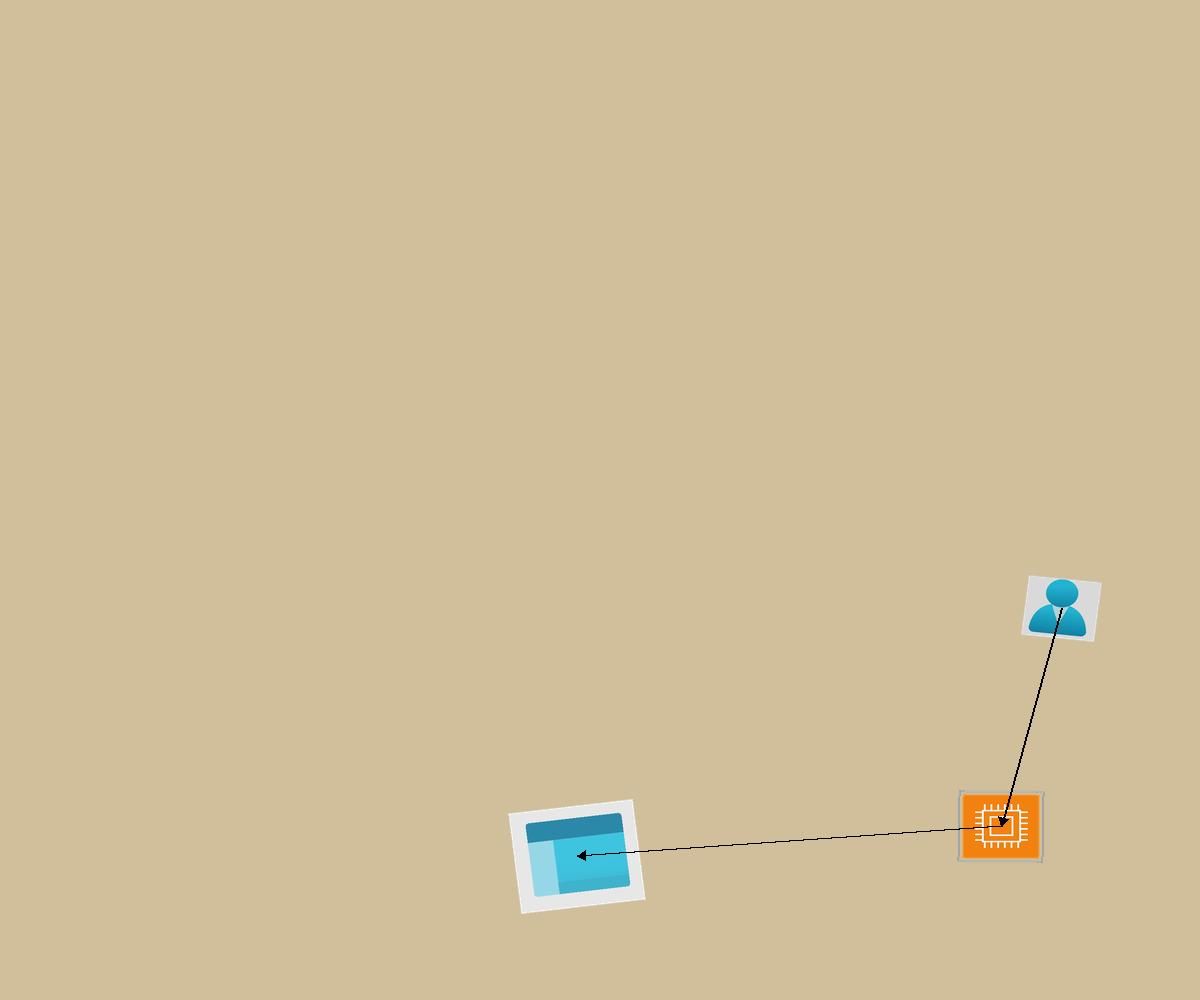AWS-Category_Compute: (957, 790, 1045, 863)
Azure_management-portal: (508, 799, 646, 914)
Azure_users: (1021, 575, 1102, 642)
